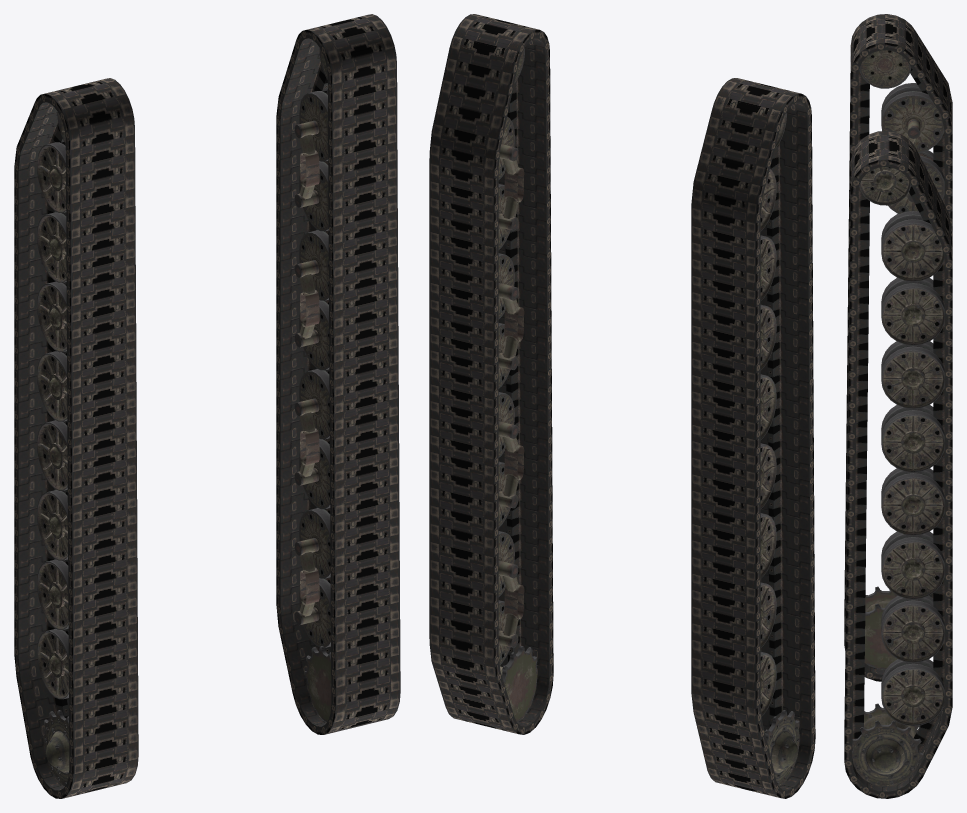
The model's file is Chassis.glb.
3 views of the same model, side by side, from view 1: azimuth 30°, elevation 25°; view 2: azimuth 150°, elevation 25°; view 3: azimuth 270°, elevation 25° (orthographic). The views are drawn at different scales.
Visible parts, largest first — view 1: set_3_group_0, set_1_group_0, set_5_group_0, set_4_group_0, set_0_group_0, set_2_group_0; view 2: set_3_group_0, set_1_group_0, set_5_group_0, set_4_group_0, set_2_group_0, set_0_group_0; view 3: set_5_group_0, set_1_group_0, set_3_group_0, set_4_group_0, set_0_group_0, set_2_group_0.
Boxes of the visible parts, x1=… form: set_3_group_0: x1=14, y1=78, x2=138, y2=798; set_1_group_0: x1=276, y1=14, x2=400, y2=734; set_5_group_0: x1=294, y1=48, x2=331, y2=721; set_4_group_0: x1=37, y1=112, x2=69, y2=786; set_0_group_0: x1=330, y1=490, x2=400, y2=645; set_2_group_0: x1=68, y1=542, x2=138, y2=696; set_3_group_0: x1=691, y1=78, x2=815, y2=798; set_1_group_0: x1=429, y1=14, x2=553, y2=734; set_5_group_0: x1=498, y1=48, x2=537, y2=722; set_4_group_0: x1=760, y1=112, x2=799, y2=786; set_2_group_0: x1=760, y1=523, x2=814, y2=667; set_0_group_0: x1=498, y1=472, x2=553, y2=616; set_5_group_0: x1=852, y1=167, x2=944, y2=786; set_1_group_0: x1=844, y1=131, x2=952, y2=798; set_3_group_0: x1=844, y1=14, x2=952, y2=681; set_4_group_0: x1=859, y1=50, x2=944, y2=669; set_0_group_0: x1=845, y1=552, x2=865, y2=705; set_2_group_0: x1=845, y1=424, x2=847, y2=576.
Size of the model in its own units: 3.63 by 7.35 by 1.13.
6 materials, 6 textured.
